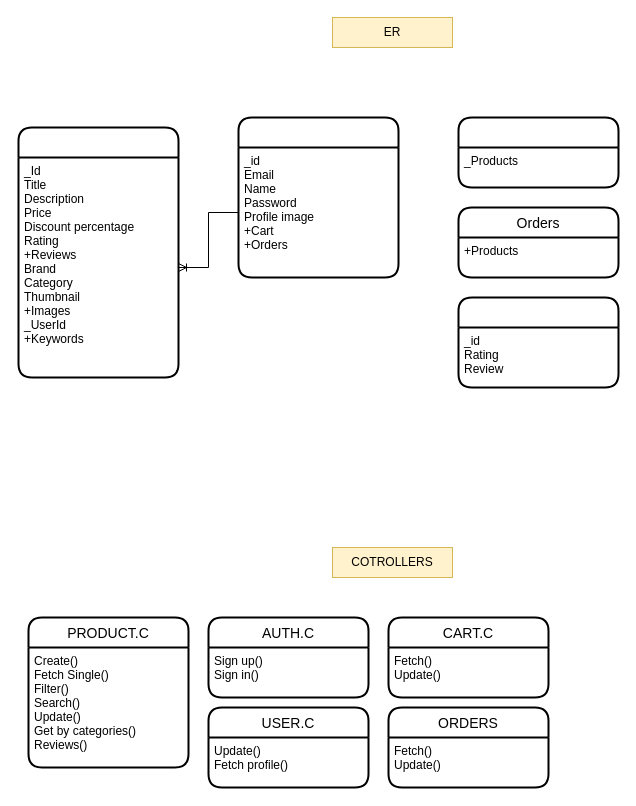
Image size: 636x806. Some labels were removed from this diagram. Each missing label, with the box of its shape:
Cart: (457, 116, 619, 188)
Product: (17, 126, 179, 378)
Reviews: (457, 296, 619, 388)
User: (237, 116, 399, 278)
